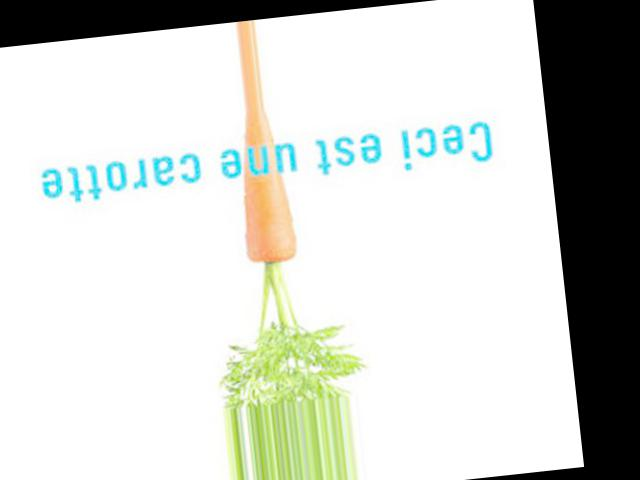carrot: (209, 103, 311, 285)
